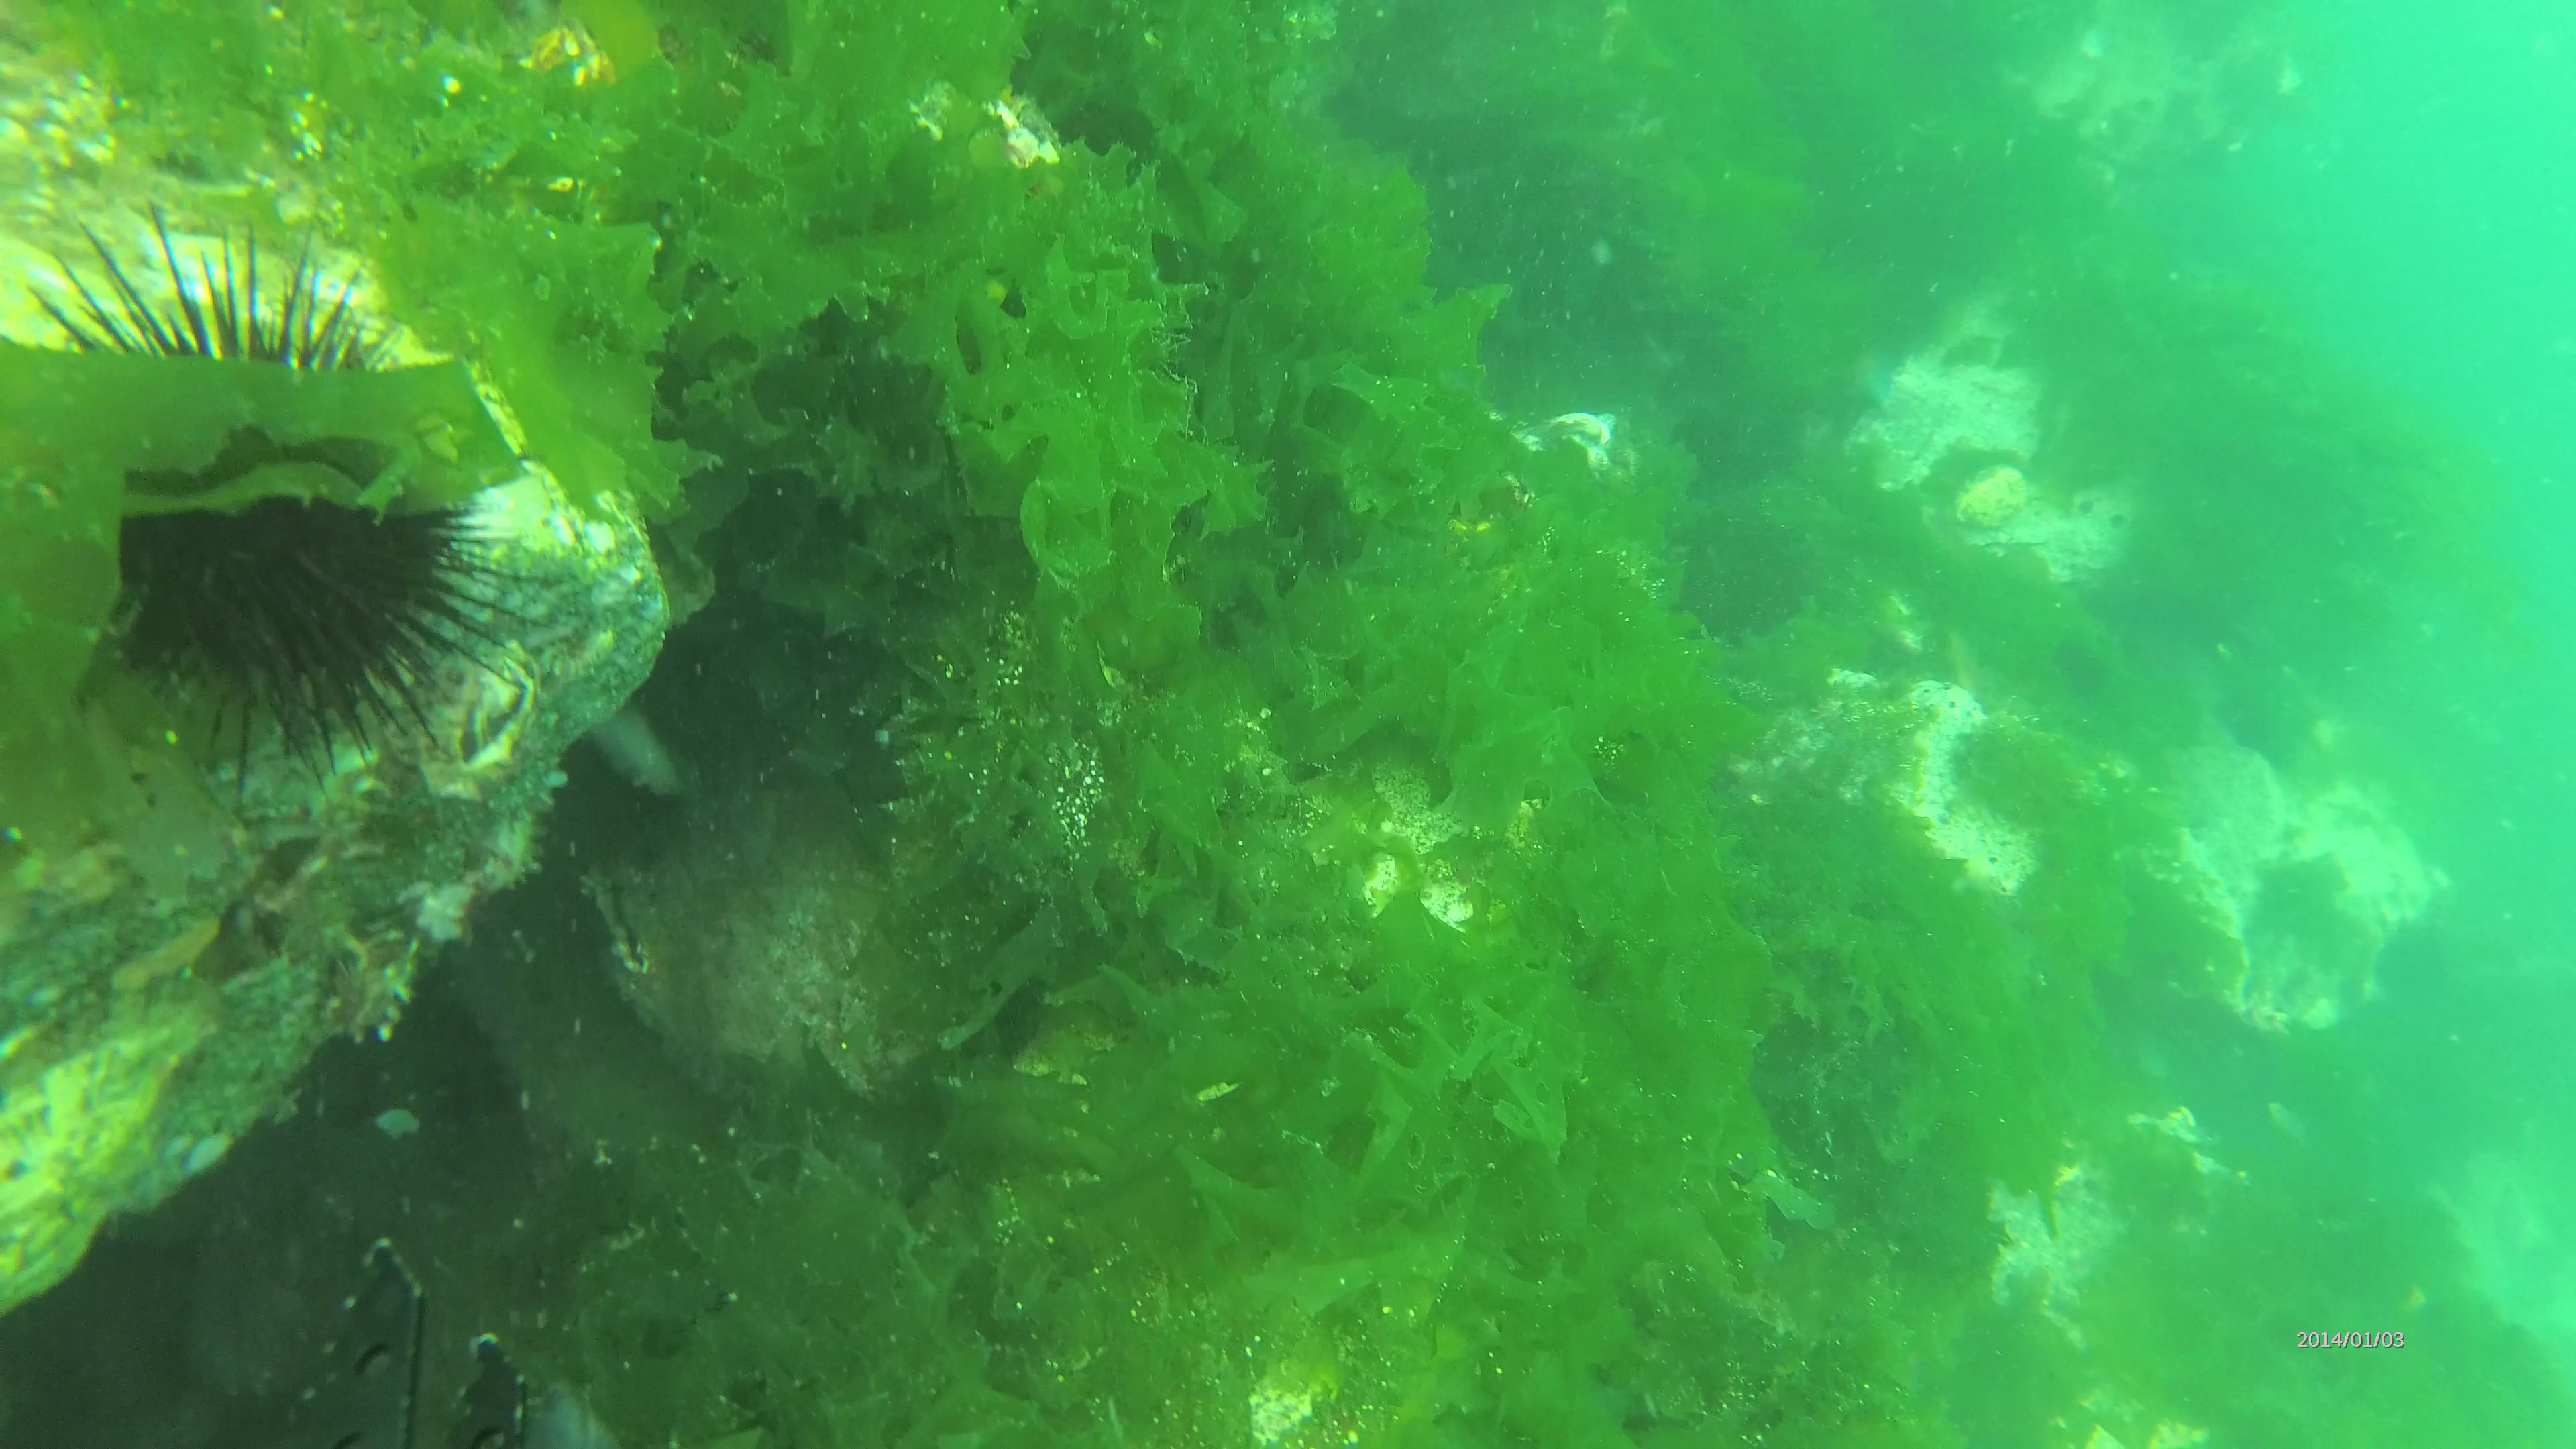echinus: (5, 195, 547, 809)
